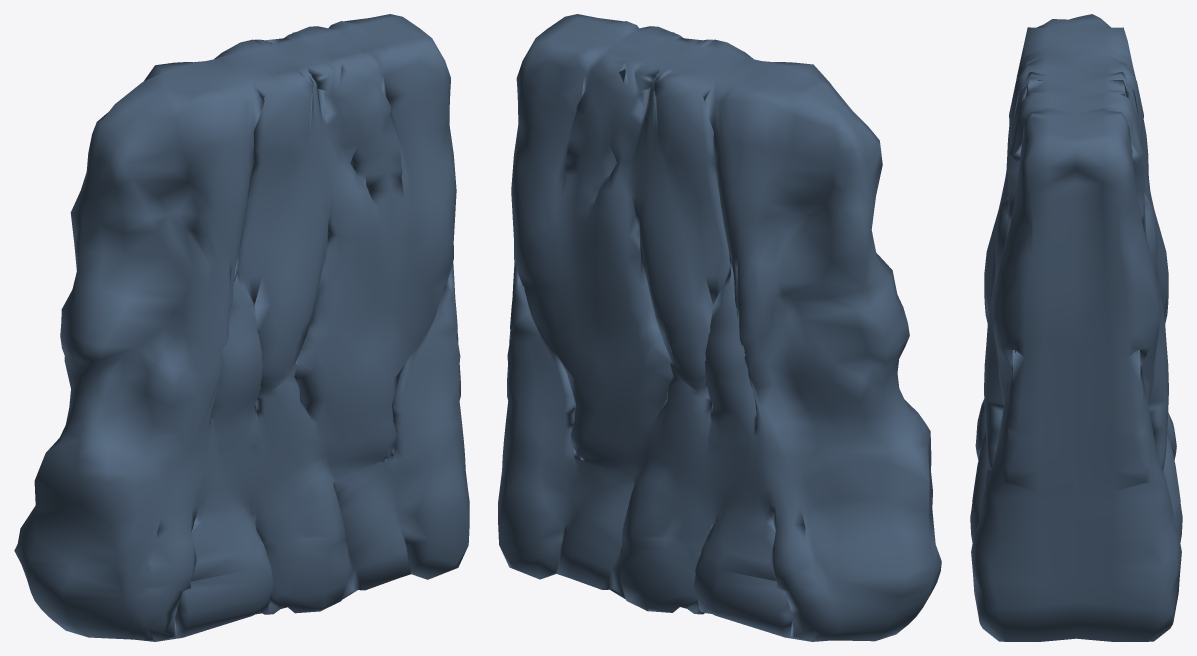
File: Wall.Basic.DoubleSided.edge.dae
The picture shows the model from 3 angles, left to right: view 1: azimuth 30°, elevation 25°; view 2: azimuth 150°, elevation 25°; view 3: azimuth 270°, elevation 25°; orthographic projection. The views are drawn at different scales.
Visible parts, largest first — view 1: Plane.001; view 2: Plane.001; view 3: Plane.001.
Boxes of the visible parts, box(x1,y1,x2,y2) form: Plane.001: box(14, 14, 469, 641); Plane.001: box(498, 14, 941, 641); Plane.001: box(970, 14, 1182, 641).
Bounding box in the file's own units: 14.91 × 7.1 × 18.83.
